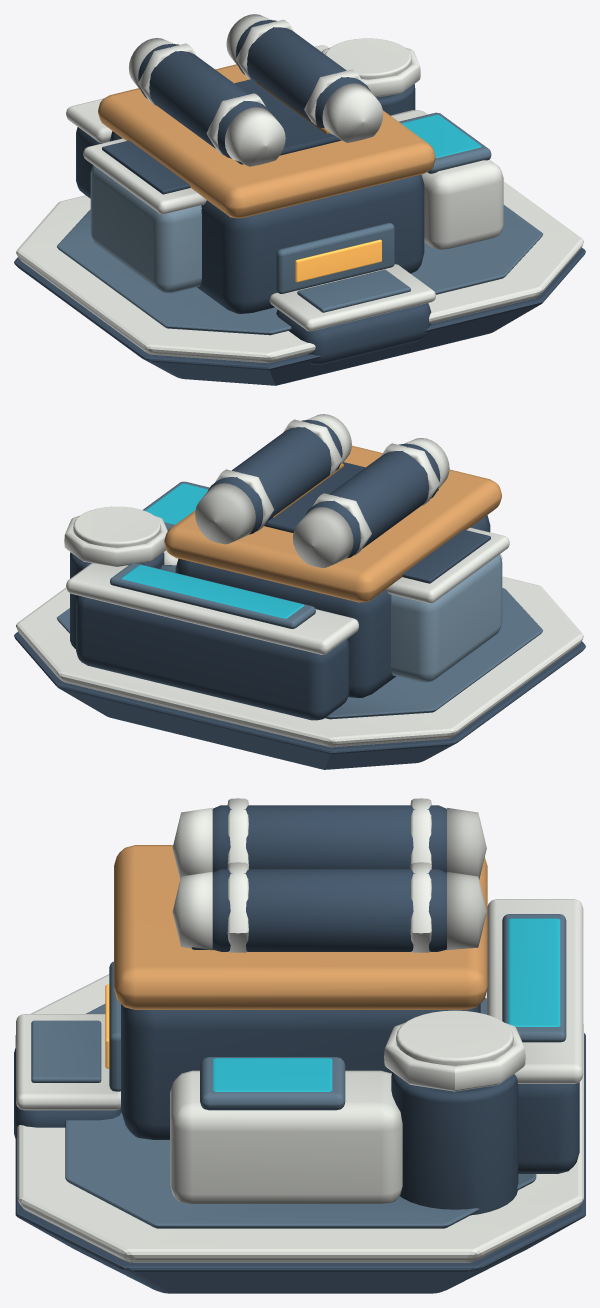
The model's file is interstellar_refinery_lv4.glb.
The picture shows the model from 3 angles, top to bottom: view 1: azimuth 30°, elevation 25°; view 2: azimuth 150°, elevation 25°; view 3: azimuth 270°, elevation 25°; orthographic projection. The views are drawn at different scales.
Visible parts, largest first — view 1: Structure; view 2: Structure; view 3: Structure.
Part boxes in pixels (<box>): Structure: <box>14,14,585,385</box>; Structure: <box>14,414,585,769</box>; Structure: <box>14,798,585,1293</box>.
Bounding box in the file's own units: 7.33 × 3.79 × 6.12.
